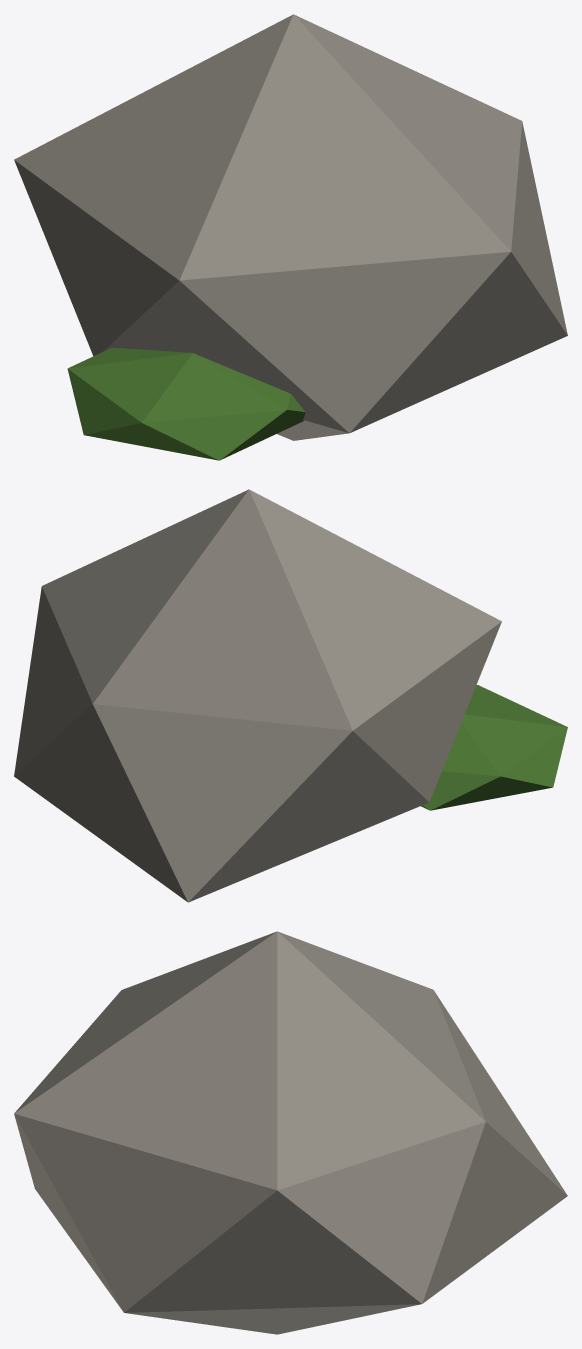
File: rock.glb
3 views of the same model, one above another, from view 1: azimuth 30°, elevation 25°; view 2: azimuth 150°, elevation 25°; view 3: azimuth 270°, elevation 25° (orthographic). The views are drawn at different scales.
Parts seen in each view (by area): view 1: prop_rock; view 2: prop_rock; view 3: prop_rock.
Part boxes in pixels (bbox=[...]): prop_rock: bbox=[14, 14, 567, 460]; prop_rock: bbox=[14, 489, 567, 902]; prop_rock: bbox=[14, 931, 567, 1334].
Size of the model in its own units: 0.1843 by 0.1499 by 0.1866.
